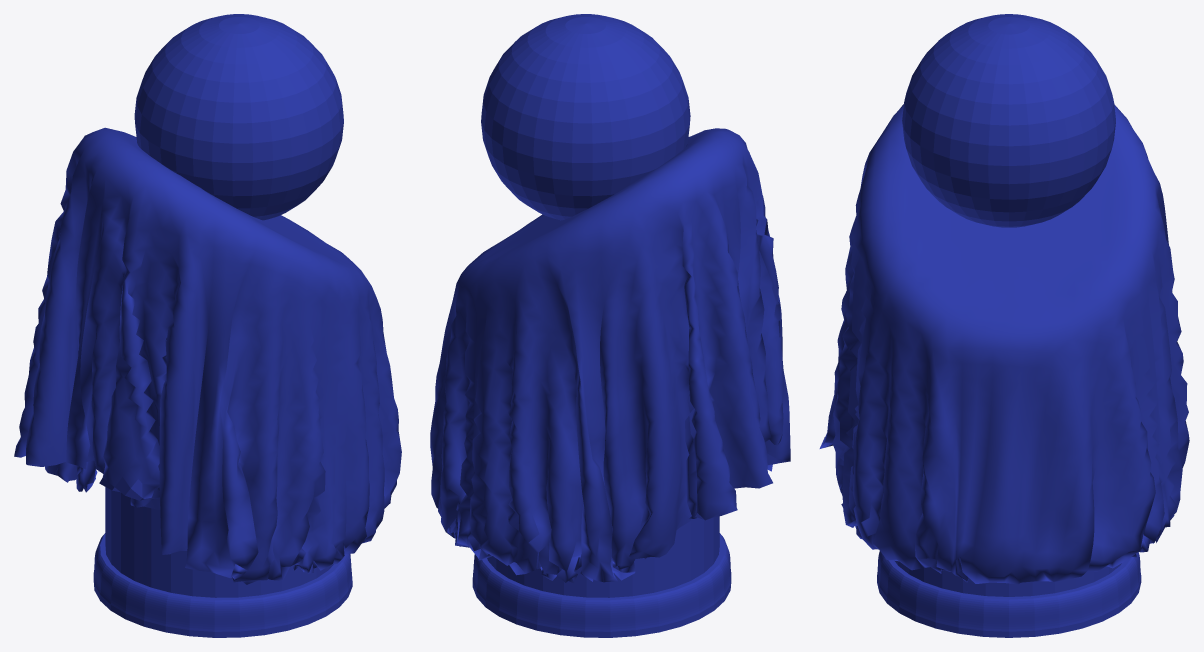
File: Player's team Pedestal.fbx
3 renders of one model, left to right at view 1: azimuth 30°, elevation 25°; view 2: azimuth 150°, elevation 25°; view 3: azimuth 270°, elevation 25°, orthographic.
Visible parts, largest first — view 1: Plane; view 2: Plane; view 3: Plane.
Boxes of the visible parts, left/top/right/bottom form: Plane: left=14, top=14, right=401, bottom=637; Plane: left=430, top=14, right=790, bottom=637; Plane: left=819, top=14, right=1189, bottom=637.
Bounding box in the file's own units: 542 × 572 × 915.
